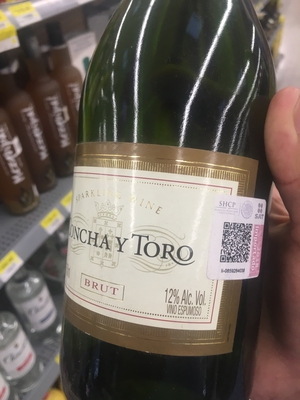brut: (55, 25, 280, 400)
